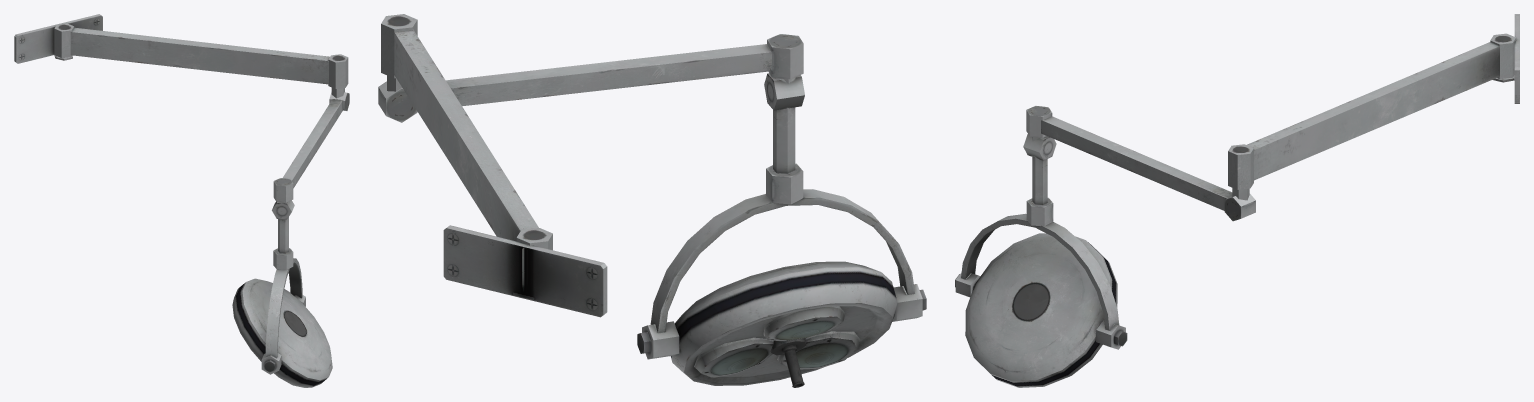
File: MedicalLight.fbx
3 renders of one model, left to right at view 1: azimuth 30°, elevation 25°; view 2: azimuth 150°, elevation 25°; view 3: azimuth 270°, elevation 25°, orthographic. The views are drawn at different scales.
Parts seen in each view (by area): view 1: MedicalLight; view 2: MedicalLight; view 3: MedicalLight.
Part boxes in pixels (x1,y1,x2,y2): MedicalLight: (14, 14, 349, 387); MedicalLight: (378, 14, 926, 387); MedicalLight: (955, 14, 1519, 387).
Size of the model in its own units: 115 by 112 by 189.
1 material, 1 textured.
